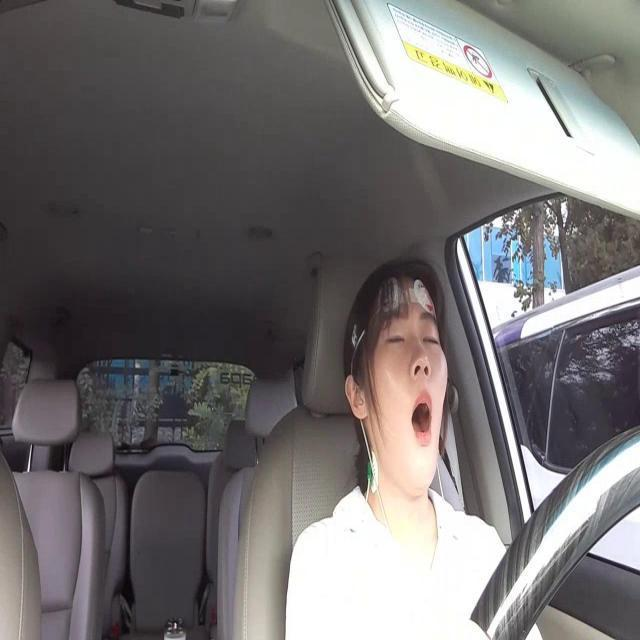Eye-Close: (385, 331, 410, 347), (418, 332, 443, 348)
Yawning: (410, 388, 437, 448)
